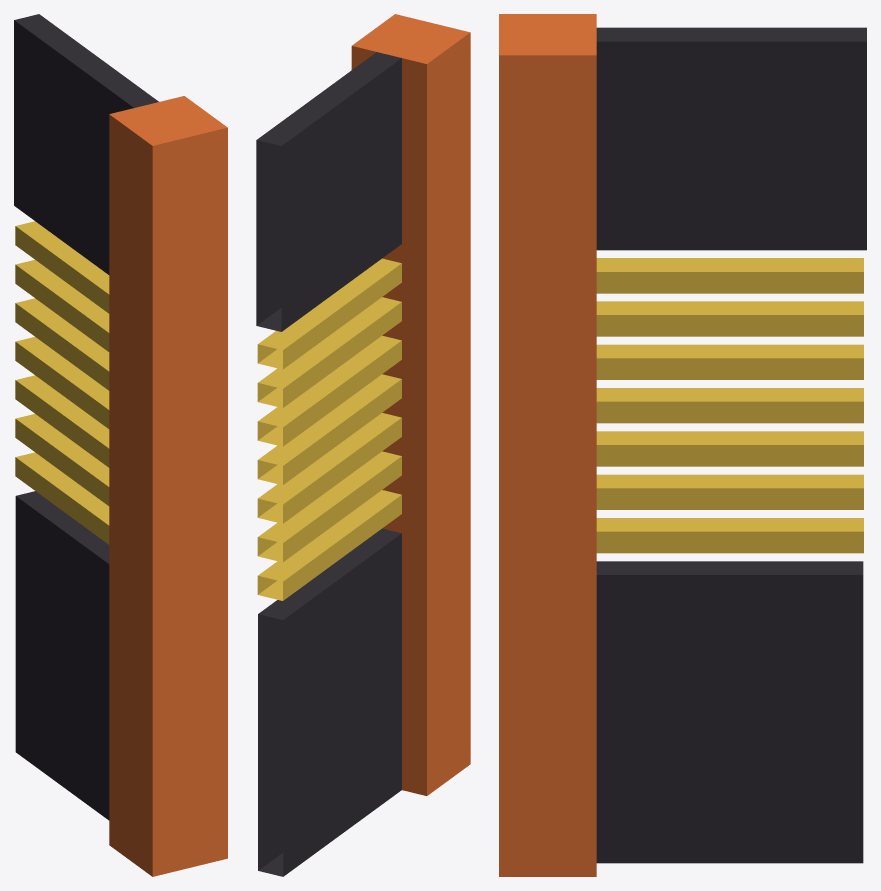
File: Pillar Asset.fbx
The picture shows the model from 3 angles, left to right: view 1: azimuth 30°, elevation 25°; view 2: azimuth 150°, elevation 25°; view 3: azimuth 270°, elevation 25°; orthographic projection. The views are drawn at different scales.
Visible parts, largest first — view 1: Pillar, Barrier Base, Barrier Middle, Barrier Top; view 2: Pillar, Barrier Base, Barrier Middle, Barrier Top; view 3: Pillar, Barrier Base, Barrier Middle, Barrier Top.
Part boxes in pixels (x1=…): Pillar: x1=109, y1=96, x2=227, y2=876; Barrier Base: x1=15, y1=491, x2=109, y2=820; Barrier Middle: x1=15, y1=221, x2=109, y2=544; Barrier Top: x1=14, y1=14, x2=158, y2=274; Pillar: x1=351, y1=14, x2=470, y2=795; Barrier Base: x1=258, y1=528, x2=401, y2=876; Barrier Middle: x1=257, y1=258, x2=401, y2=600; Barrier Top: x1=256, y1=52, x2=401, y2=331; Pillar: x1=499, y1=14, x2=596, y2=876; Barrier Base: x1=596, y1=561, x2=863, y2=863; Barrier Middle: x1=596, y1=258, x2=863, y2=553; Barrier Top: x1=596, y1=27, x2=866, y2=250.
Size of the model in its own units: 43.34 by 402 by 163.
